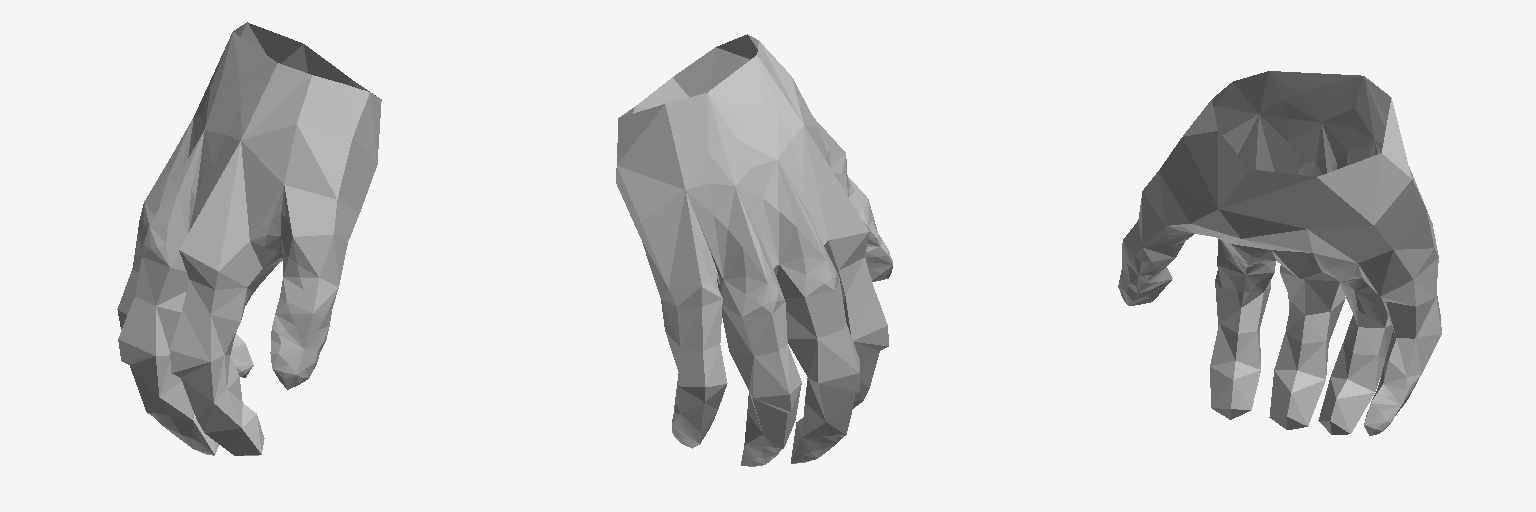
File: nn_hand.obj
3 views of the same model, side by side, from view 1: azimuth 30°, elevation 25°; view 2: azimuth 150°, elevation 25°; view 3: azimuth 270°, elevation 25° (orthographic).
Visible parts, largest first — view 1: S-LoW.slow_nanosuit.smd.mesh_1.003; view 2: S-LoW.slow_nanosuit.smd.mesh_1.003; view 3: S-LoW.slow_nanosuit.smd.mesh_1.003.
Boxes of the visible parts, x1,y1,x2,y2 form: S-LoW.slow_nanosuit.smd.mesh_1.003: [117, 22, 381, 455]; S-LoW.slow_nanosuit.smd.mesh_1.003: [616, 34, 892, 466]; S-LoW.slow_nanosuit.smd.mesh_1.003: [1118, 71, 1441, 435].
Size of the model in its own units: 4.51 by 7.26 by 5.51.